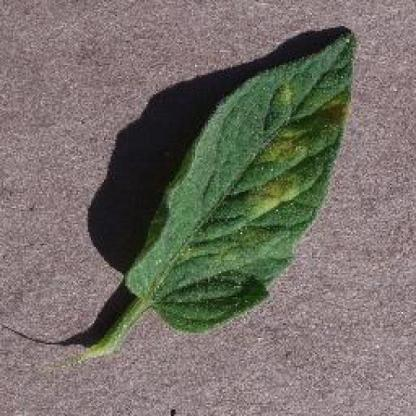Tomato_Leaf_Mold: (126, 33, 355, 332)
